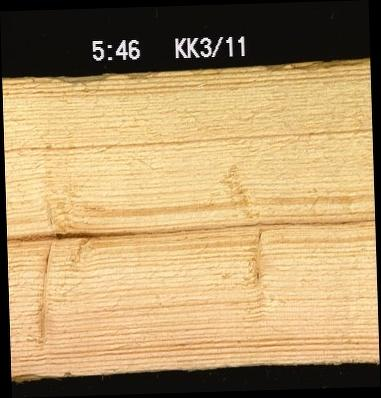split: (6, 222, 375, 238)
wave: (1, 73, 115, 82)
